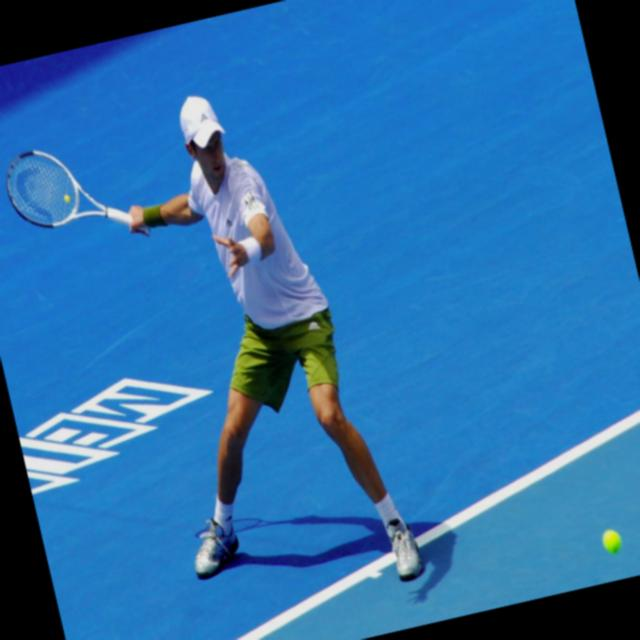Tennis ball: (601, 526, 624, 554)
